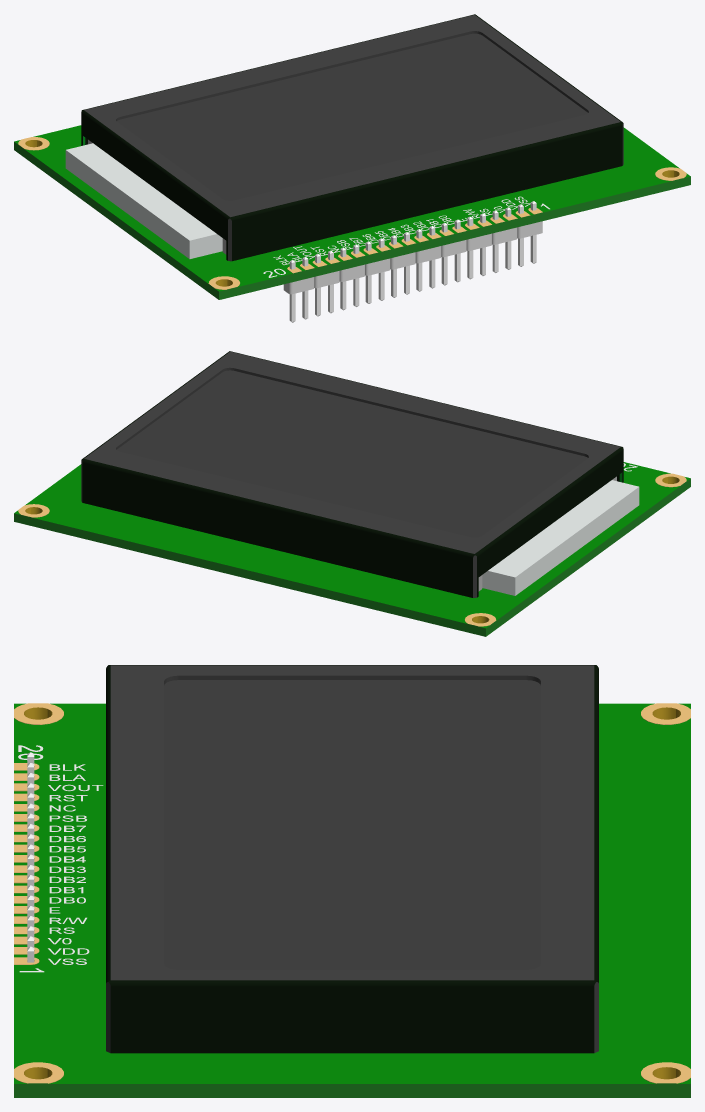
Rendered from led arduino.fbx.
3 renders of one model, top to bottom at view 1: azimuth 30°, elevation 25°; view 2: azimuth 150°, elevation 25°; view 3: azimuth 270°, elevation 25°, orthographic. The views are drawn at different scales.
Parts seen in each view (by area): view 1: Body1.084; view 2: Body1.084; view 3: Body1.084.
Boxes of the visible parts, left/top/right/bottom form: Body1.084: left=14, top=14, right=690, bottom=322; Body1.084: left=14, top=351, right=690, bottom=636; Body1.084: left=14, top=665, right=690, bottom=1097.
Size of the model in its own units: 9.3 by 1.82 by 7.
